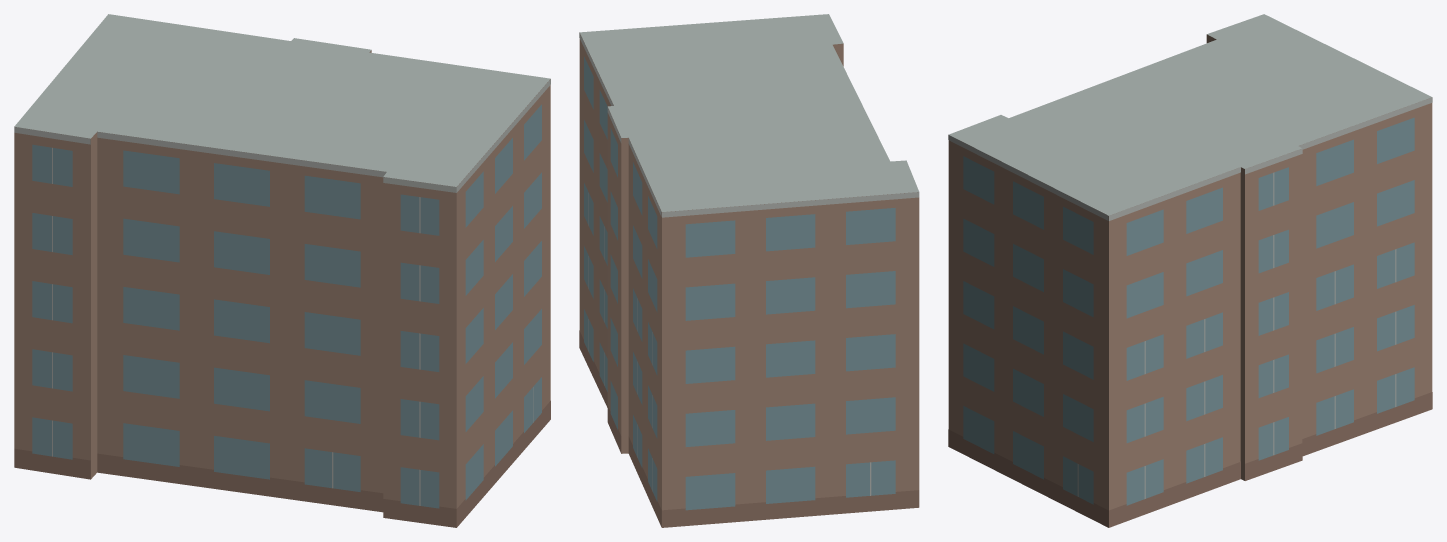
Rendered from survey-upis-32730536.glb.
3 views of the same model, side by side, from view 1: azimuth 30°, elevation 25°; view 2: azimuth 150°, elevation 25°; view 3: azimuth 270°, elevation 25° (orthographic). The views are drawn at different scales.
Visible parts, largest first — view 1: survey-upis-32730536.tmp; view 2: survey-upis-32730536.tmp; view 3: survey-upis-32730536.tmp.
Boxes of the visible parts, bbox=[...] form: survey-upis-32730536.tmp: bbox=[14, 14, 550, 527]; survey-upis-32730536.tmp: bbox=[579, 14, 919, 527]; survey-upis-32730536.tmp: bbox=[948, 14, 1432, 527].
Bounding box in the file's own units: 19.28 × 13.9 × 19.54.
